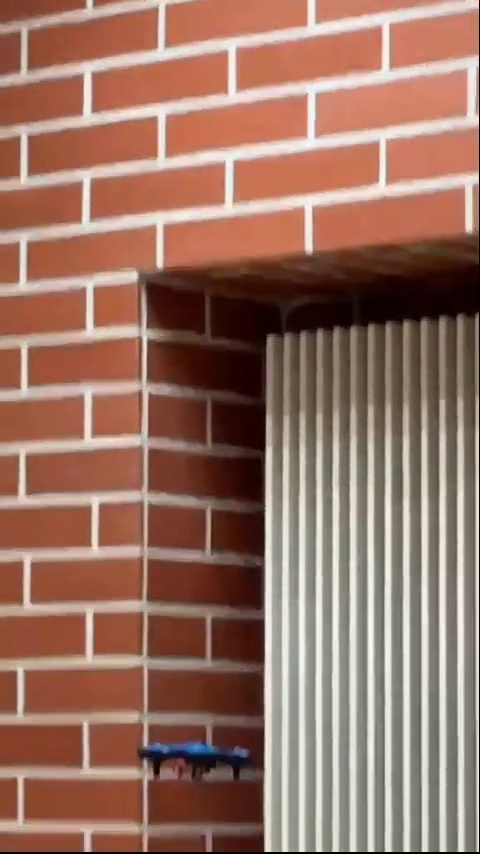drone: (137, 736, 262, 786)
